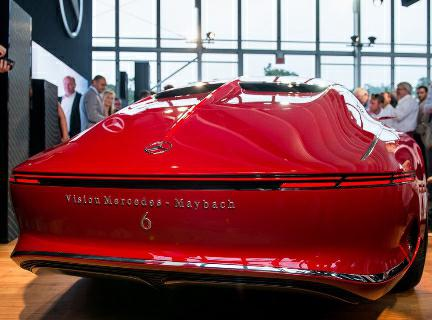奔驰-VisionMercedes-Maybach6: (10, 82, 425, 306)
